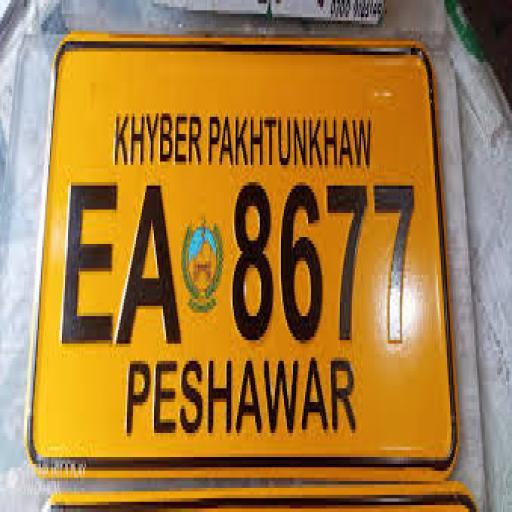6: (277, 186, 323, 334)
7: (370, 184, 420, 340), (327, 177, 369, 339)
8: (230, 187, 275, 338)
A: (119, 176, 179, 350)
E: (66, 176, 116, 356)
